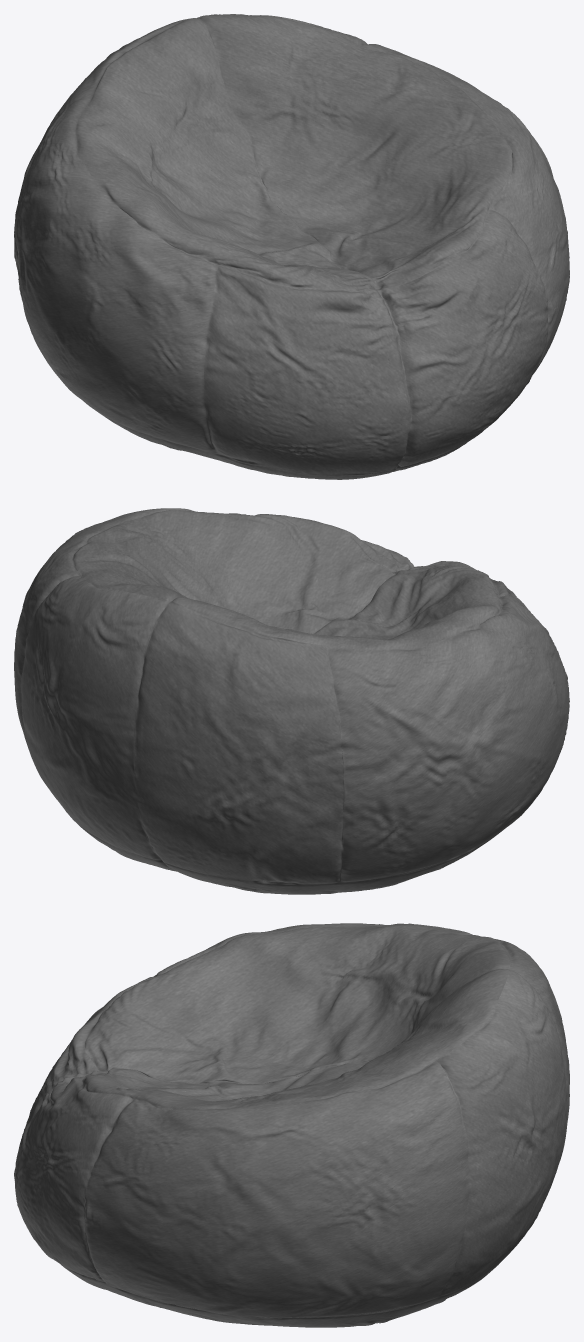
The model's file is bean_bag_chair.glb.
3 renders of one model, top to bottom at view 1: azimuth 30°, elevation 25°; view 2: azimuth 150°, elevation 25°; view 3: azimuth 270°, elevation 25°, orthographic.
Visible parts, largest first — view 1: Cylinder.246; view 2: Cylinder.246; view 3: Cylinder.246.
Boxes of the visible parts, box(x1,y1,x2,y2) form: Cylinder.246: box(14, 14, 569, 479); Cylinder.246: box(14, 508, 569, 894); Cylinder.246: box(14, 923, 569, 1327).
Size of the model in its own units: 2.92 by 1.73 by 2.91.
Materials: 1 (1 with a texture image).
